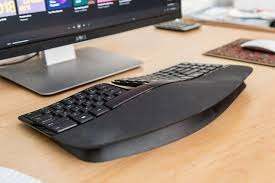keyboard: (12, 44, 253, 163)
